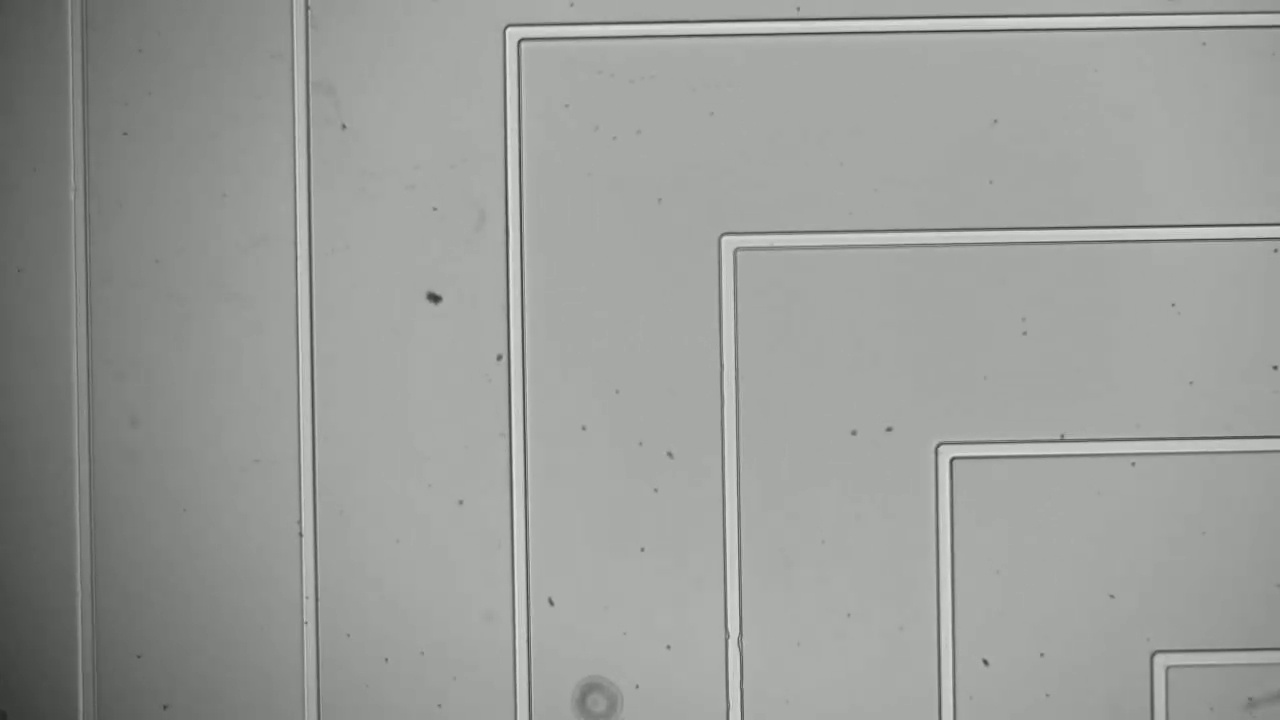edge_bite: (714, 625, 751, 661)
